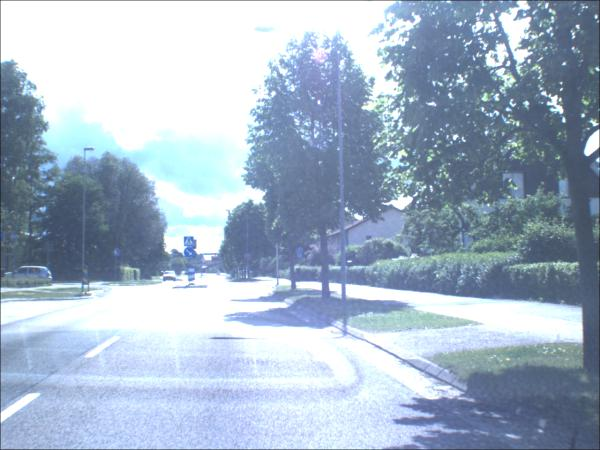NO_PARKING: (246, 254, 254, 262)
PASS_RIGHT_SIDE: (185, 248, 197, 259)
PEDESTRIAN_CROSSING: (185, 238, 196, 248)
